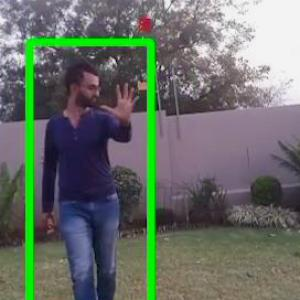follow_hand: (100, 79, 144, 122)
